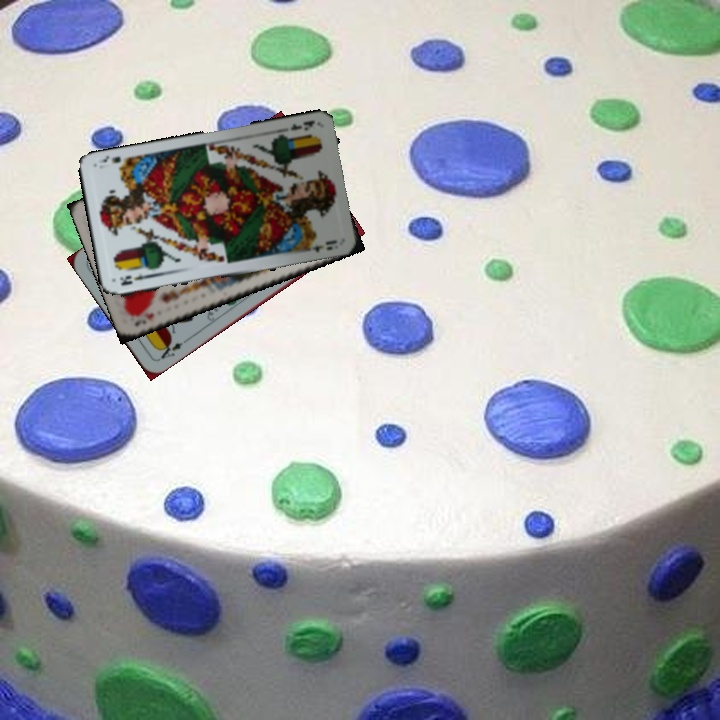EA: (154, 337, 185, 363)
EK: (116, 270, 155, 288), (286, 116, 317, 133)
HK: (131, 308, 156, 329)
